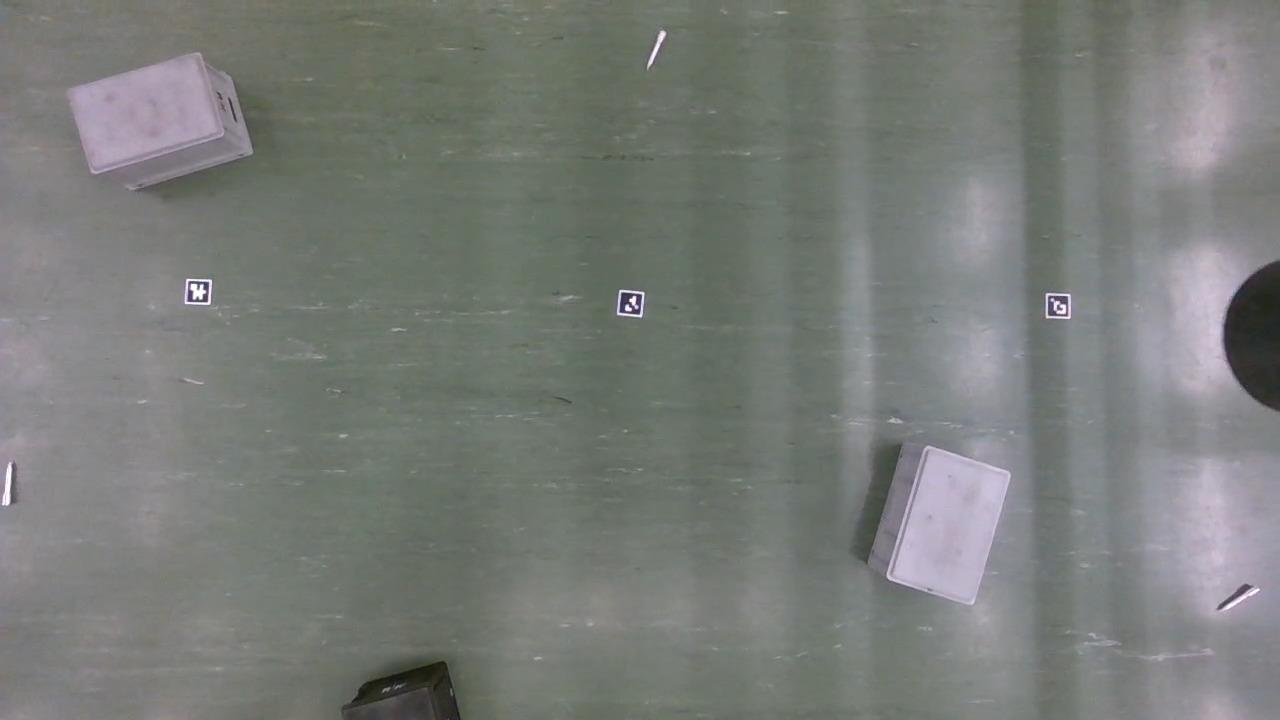probes: (1218, 585, 1257, 613), (649, 31, 667, 71), (3, 463, 15, 507)
rako: (68, 53, 253, 194), (867, 446, 1010, 610), (340, 664, 462, 720)
